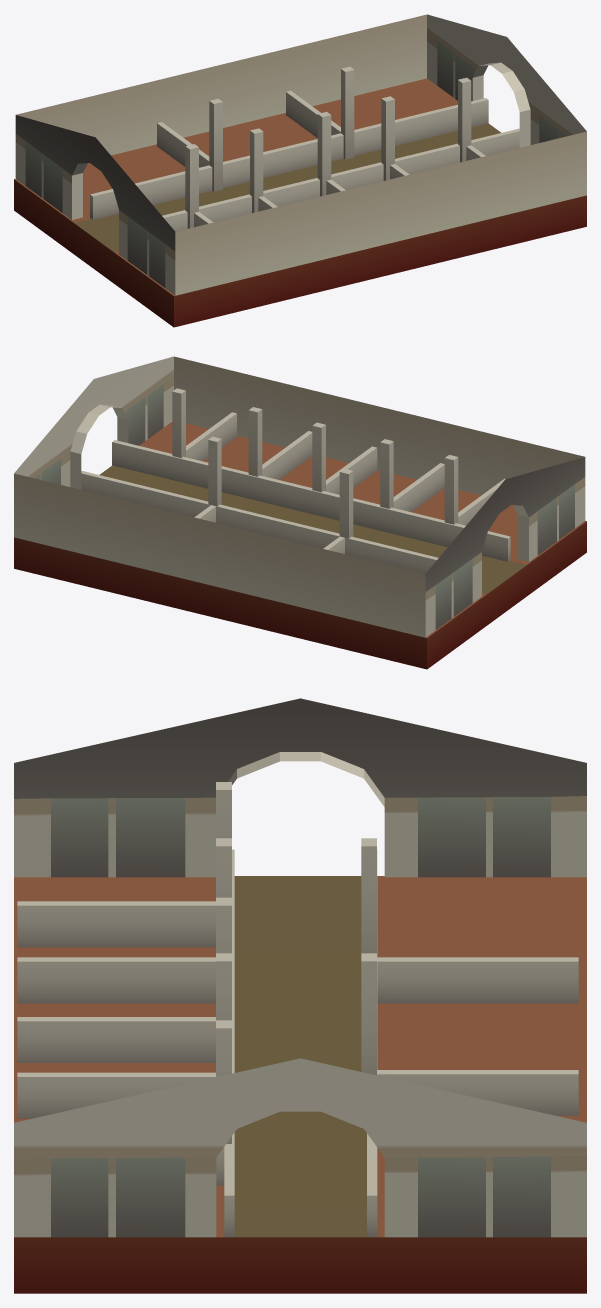
Rendered from SM_Pig_Farm_No_Roof.fbx.
3 renders of one model, top to bottom at view 1: azimuth 30°, elevation 25°; view 2: azimuth 150°, elevation 25°; view 3: azimuth 270°, elevation 25°, orthographic. The views are drawn at different scales.
Visible parts, largest first — view 1: Farm_Part_01.003, Farm_Part_02.001; view 2: Farm_Part_01.003, Farm_Part_02.001; view 3: Farm_Part_02.001, Farm_Part_01.003.
Boxes of the visible parts, bbox=[...] form: Farm_Part_01.003: bbox=[15, 14, 586, 295]; Farm_Part_02.001: bbox=[14, 66, 586, 327]; Farm_Part_01.003: bbox=[14, 356, 585, 637]; Farm_Part_02.001: bbox=[14, 388, 586, 669]; Farm_Part_02.001: bbox=[14, 782, 586, 1293]; Farm_Part_01.003: bbox=[14, 698, 586, 1237].
Bounding box in the file's own units: 197 × 59.81 × 132.
